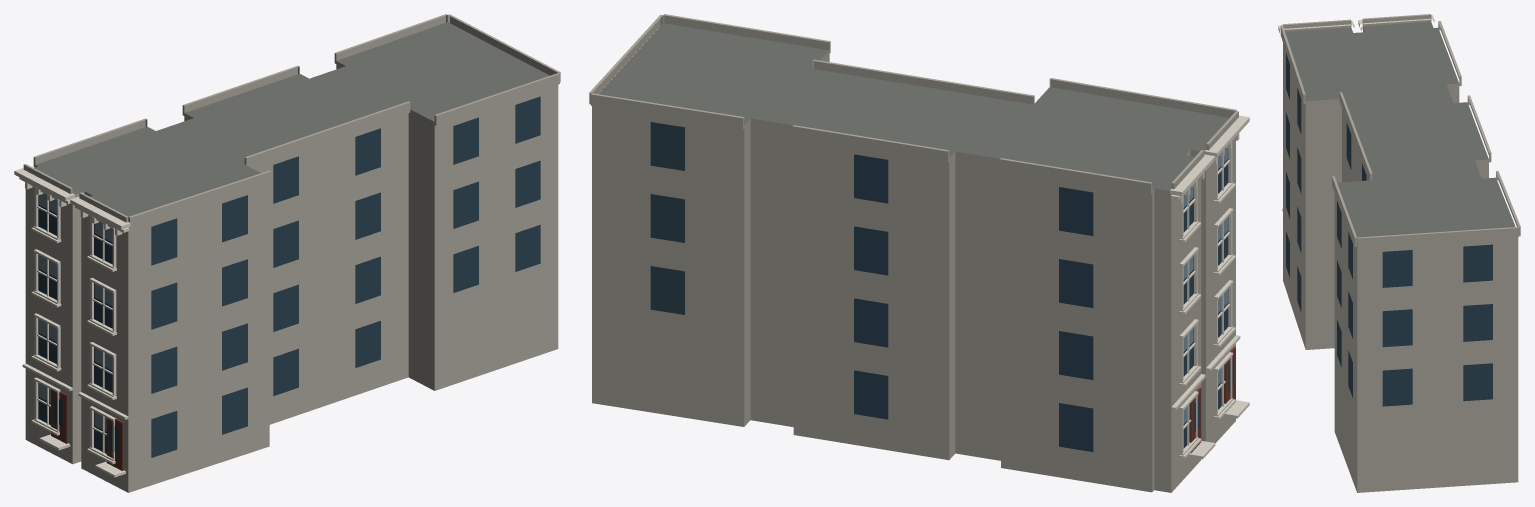
3 renders of one model, left to right at view 1: azimuth 30°, elevation 25°; view 2: azimuth 150°, elevation 25°; view 3: azimuth 270°, elevation 25°, orthographic. The views are drawn at different scales.
Parts seen in each view (by area): view 1: Footprint 0 / surface 2, Footprint 0 / surface 1, Inset glazing, Facade bay volumes, Cornices and window frames, Sky reflection panels, Storefronts and doors; view 2: Footprint 0 / surface 2, Footprint 0 / surface 1, Inset glazing, Facade bay volumes, Cornices and window frames, Sky reflection panels, Storefronts and doors; view 3: Footprint 0 / surface 2, Footprint 0 / surface 1, Inset glazing, Facade bay volumes, Cornices and window frames.
Boxes of the visible parts, x1,y1,x2,y2 form: Footprint 0 / surface 2: (25, 61, 558, 492); Footprint 0 / surface 1: (34, 22, 549, 216); Inset glazing: (38, 96, 540, 457); Facade bay volumes: (23, 14, 560, 227); Cornices and window frames: (14, 168, 130, 477); Sky reflection panels: (39, 193, 112, 431); Storefronts and doors: (51, 389, 123, 470); Footprint 0 / surface 2: (592, 50, 1235, 492); Footprint 0 / surface 1: (599, 23, 1229, 190); Inset glazing: (650, 122, 1233, 451); Facade bay volumes: (589, 14, 1238, 194); Cornices and window frames: (1170, 115, 1249, 459); Sky reflection panels: (1183, 148, 1227, 423); Storefronts and doors: (1189, 347, 1235, 452); Footprint 0 / surface 2: (1283, 27, 1518, 492); Footprint 0 / surface 1: (1285, 21, 1515, 237); Inset glazing: (1286, 53, 1492, 406); Facade bay volumes: (1280, 14, 1520, 247); Cornices and window frames: (1278, 15, 1434, 211).
Size of the model in its own units: 25.82 by 13.47 by 11.6.
